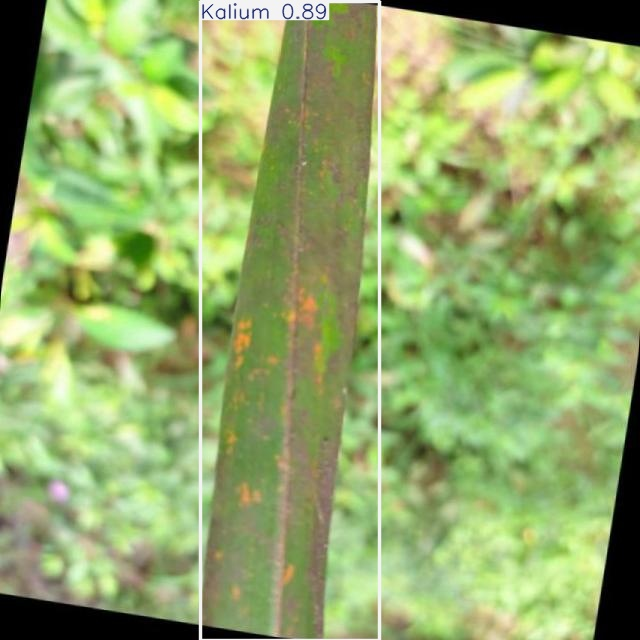Kalium: (201, 2, 380, 640)
